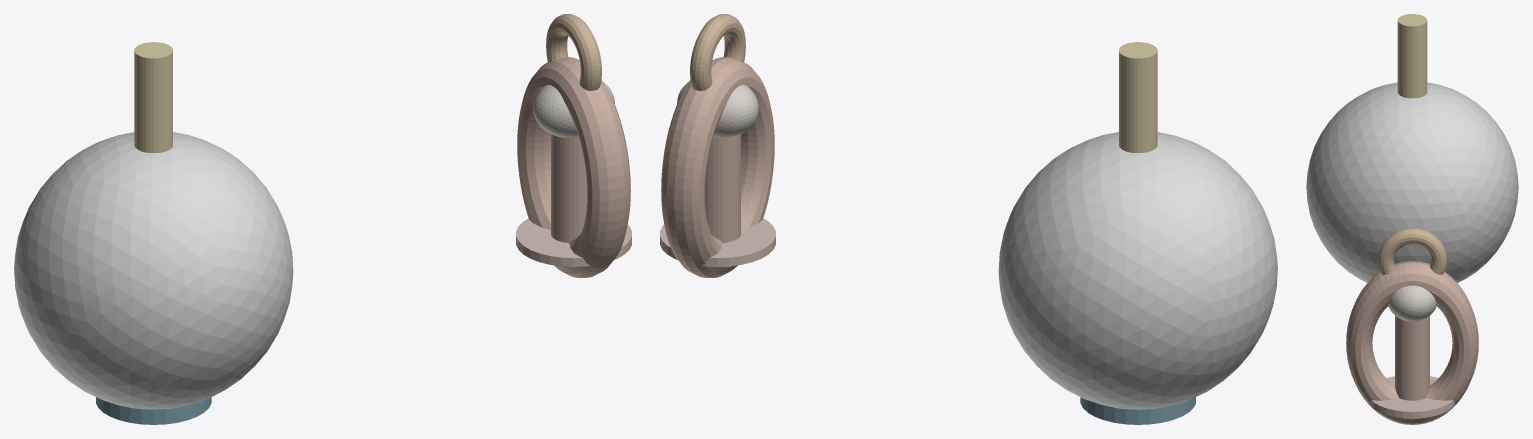
File: eye-ear-g3-high.glb
3 views of the same model, side by side, from view 1: azimuth 30°, elevation 25°; view 2: azimuth 150°, elevation 25°; view 3: azimuth 270°, elevation 25° (orthographic). The views are drawn at different scales.
Visible parts, largest first — view 1: eyeball, outer_ear, optic_nerve_proxy, ear_canal, cochlea_proxy, tympanic_membrane_proxy, iris, middle_ear_proxy; view 2: eyeball, outer_ear, optic_nerve_proxy, ear_canal, cochlea_proxy, tympanic_membrane_proxy, iris, middle_ear_proxy; view 3: eyeball, outer_ear, ear_canal, optic_nerve_proxy, cochlea_proxy, tympanic_membrane_proxy, middle_ear_proxy.
Part boxes in pixels (x1,y1,x2,y2): eyeball: (14,132,293,409); outer_ear: (517,57,630,277); optic_nerve_proxy: (134,42,172,152); ear_canal: (551,134,586,242); cochlea_proxy: (546,14,601,90); tympanic_membrane_proxy: (516,218,631,266); iris: (96,397,211,424); middle_ear_proxy: (533,82,614,137); eyeball: (998,132,1277,409); outer_ear: (661,57,774,277); optic_nerve_proxy: (1119,42,1157,152); ear_canal: (705,134,740,242); cochlea_proxy: (690,14,745,90); tympanic_membrane_proxy: (660,218,775,266); iris: (1080,397,1195,424); middle_ear_proxy: (677,82,758,137); eyeball: (1306,82,1518,282); outer_ear: (1346,261,1478,424); ear_canal: (1395,315,1429,400); optic_nerve_proxy: (1397,14,1427,98); cochlea_proxy: (1378,228,1446,274); tympanic_membrane_proxy: (1369,376,1455,418); middle_ear_proxy: (1388,285,1436,321).
Size of the model in its own units: 3.52 by 1.99 by 1.44.
